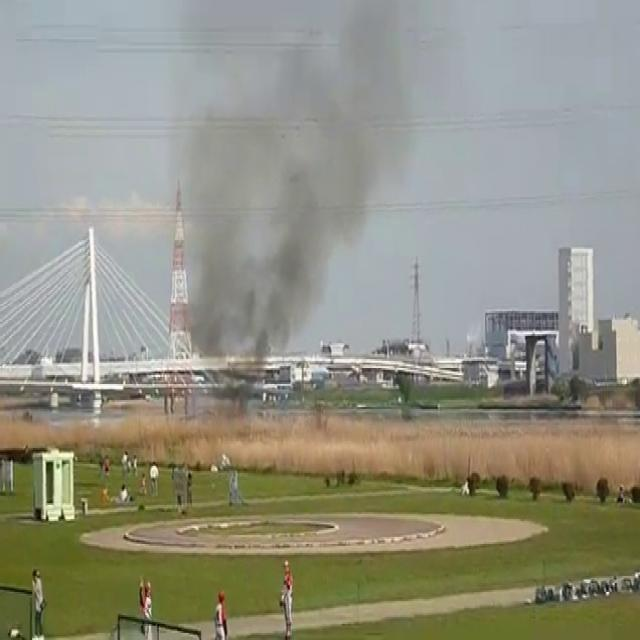Smoke: (164, 1, 446, 357)
